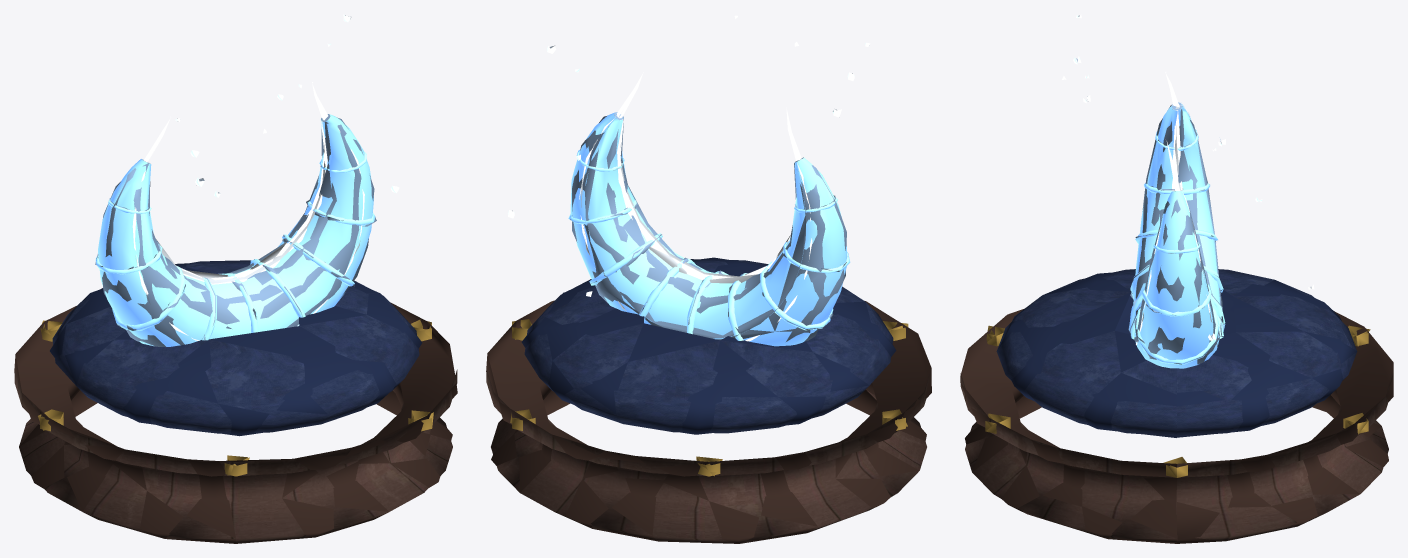
Rendered from prop_moonlight_gu.gltf.
The picture shows the model from 3 angles, left to right: view 1: azimuth 30°, elevation 25°; view 2: azimuth 150°, elevation 25°; view 3: azimuth 270°, elevation 25°; orthographic projection. The views are drawn at different scales.
Parts seen in each view (by area): view 1: Near, Far; view 2: Near, Far; view 3: Near, Far.
Boxes of the visible parts, x1,y1,x2,y2 form: Near: (14, 14, 457, 543); Far: (14, 15, 457, 543); Near: (486, 15, 930, 543); Far: (486, 45, 931, 543); Near: (960, 14, 1393, 541); Far: (960, 15, 1393, 543).
Size of the model in its own units: 0.1147 by 0.1138 by 0.1124.
Materials: 7 (2 with a texture image).
